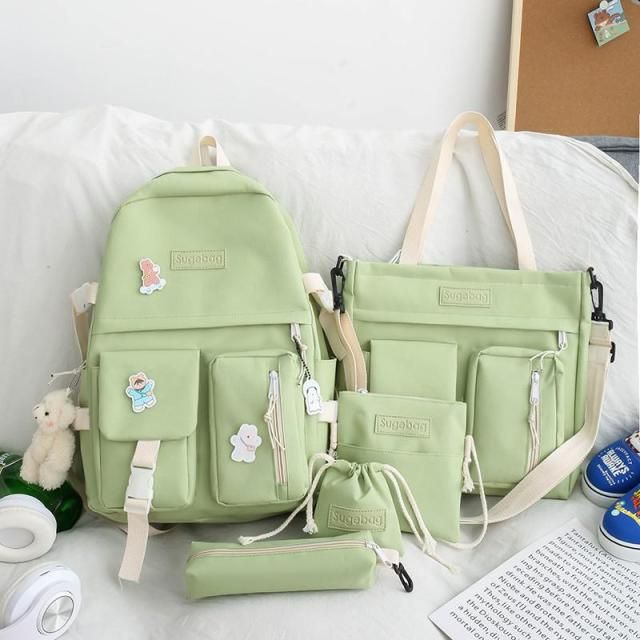nylon: (72, 109, 615, 603)
